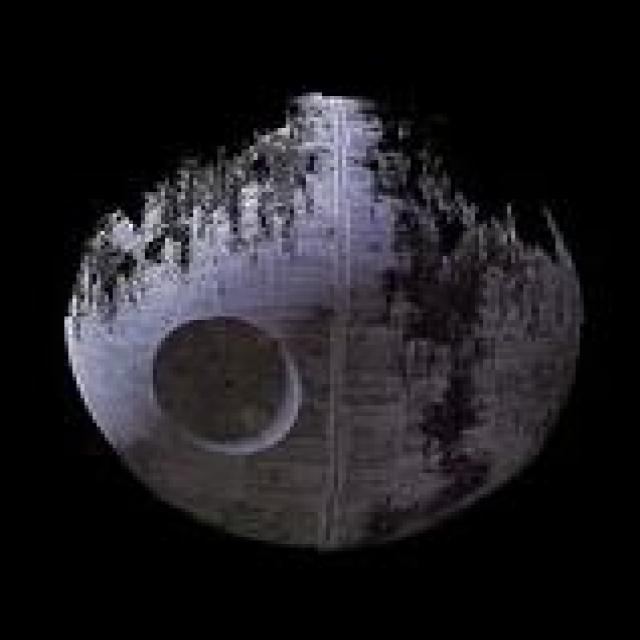Death Star: (56, 85, 588, 551)
